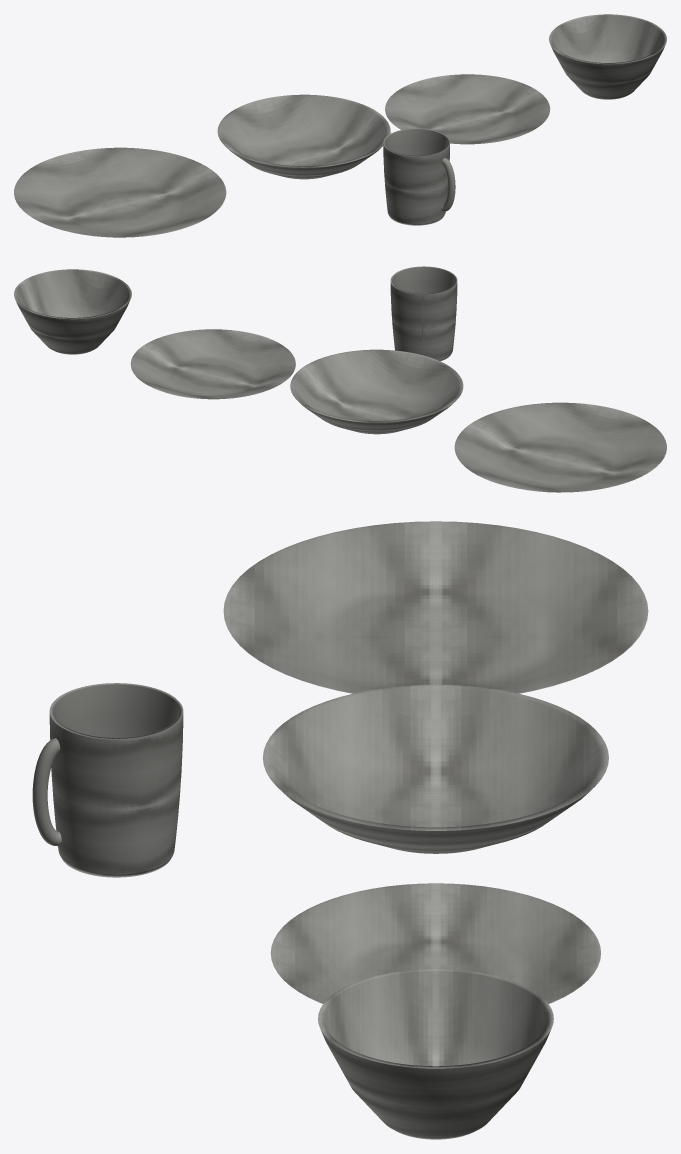
The model's file is GRL-11.glb.
The picture shows the model from 3 angles, top to bottom: view 1: azimuth 30°, elevation 25°; view 2: azimuth 150°, elevation 25°; view 3: azimuth 270°, elevation 25°; orthographic projection. The views are drawn at different scales.
Size of the model in its own units: 0.926 by 0.1 by 0.3913.
11 materials, 9 textured.
